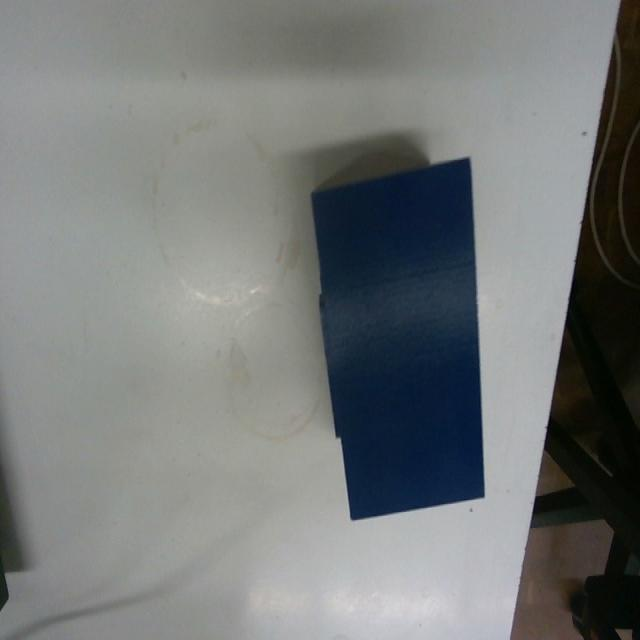Blue Cuboid: (308, 152, 487, 521)
